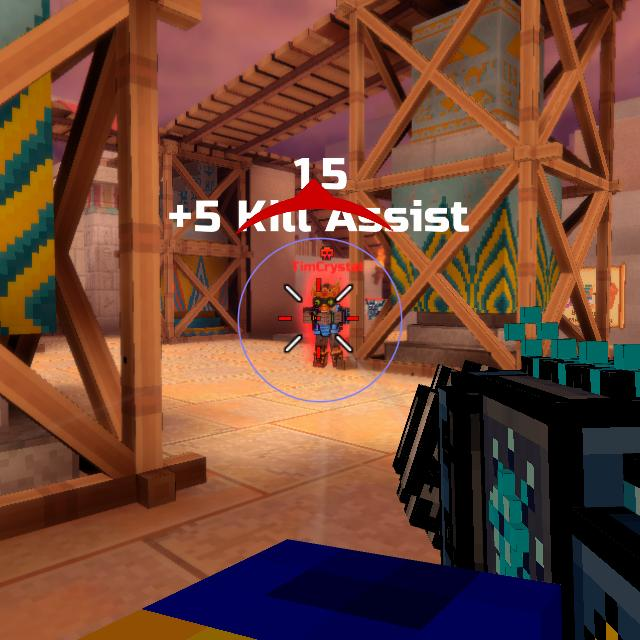Enemy: (301, 287, 351, 371)
